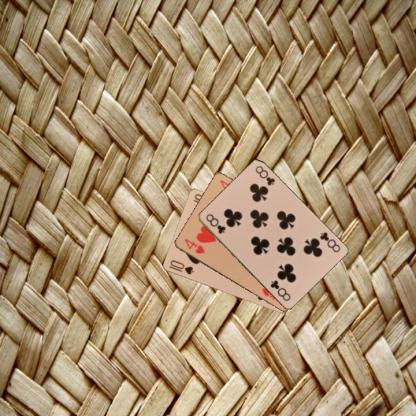10s: (168, 257, 194, 276)
4h: (181, 236, 206, 255)
8c: (316, 229, 341, 254), (204, 211, 226, 235)
